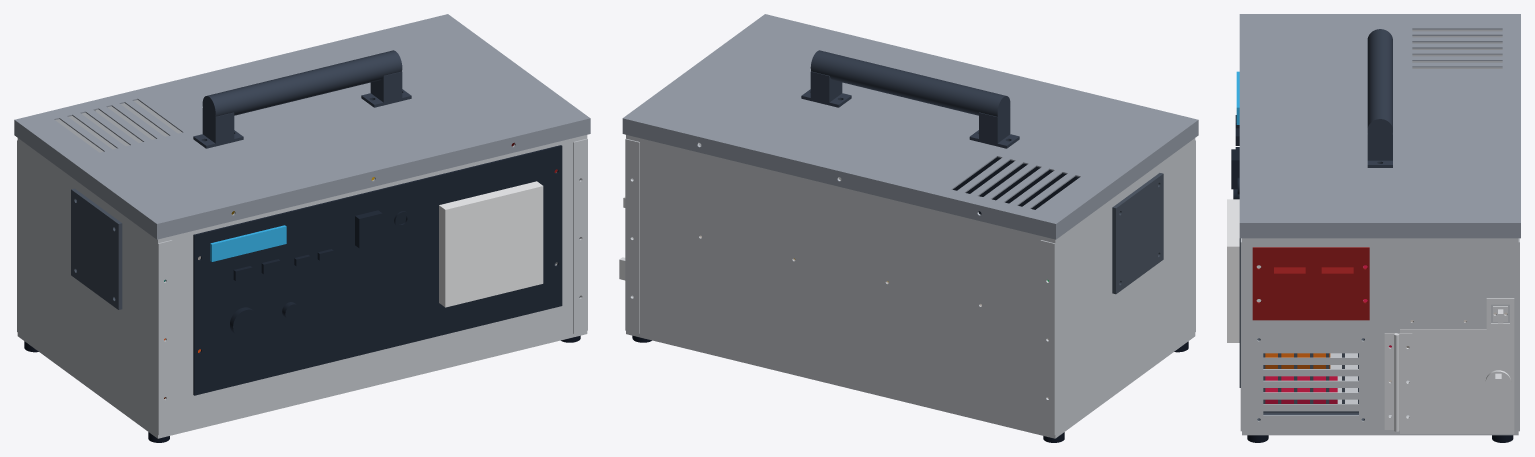
3 views of the same model, side by side, from view 1: azimuth 30°, elevation 25°; view 2: azimuth 150°, elevation 25°; view 3: azimuth 270°, elevation 25° (orthographic).
Parts seen in each view (by area): view 1: Lid with exhaust slots, Enclosure body, Output panel (USB-C PD, USB-A, 12 V), AC outlet with RCD, Carry handle and doubler, Exhaust fan, grille and filter, State-of-charge display; view 2: Enclosure body, Lid with exhaust slots, Carry handle and doubler, Exhaust fan, grille and filter, Output panel (USB-C PD, USB-A, 12 V); view 3: Lid with exhaust slots, Enclosure body, Pack bay door, hinge and latch, Input panel (DC in, grid charger in), Carry handle and doubler, AC outlet with RCD, Exhaust fan, grille and filter, Protection plate and fuse block, Output panel (USB-C PD, USB-A, 12 V), DC-DC converter, 48 V to 12 V, Rubber feet.
Part boxes in pixels (x1,y1,x2,y2): Lid with exhaust slots: [14, 14, 590, 239]; Enclosure body: [17, 100, 587, 438]; Output panel (USB-C PD, USB-A, 12 V): [193, 145, 562, 395]; AC outlet with RCD: [439, 181, 543, 307]; Carry handle and doubler: [193, 50, 411, 148]; Exhaust fan, grille and filter: [71, 188, 579, 309]; State-of-charge display: [210, 225, 286, 261]; Enclosure body: [625, 135, 1195, 438]; Lid with exhaust slots: [622, 14, 1198, 239]; Carry handle and doubler: [801, 50, 1019, 148]; Exhaust fan, grille and filter: [1112, 173, 1163, 294]; Output panel (USB-C PD, USB-A, 12 V): [953, 157, 1079, 214]; Lid with exhaust slots: [1239, 14, 1520, 238]; Enclosure body: [1240, 29, 1519, 435]; Pack bay door, hinge and latch: [1384, 298, 1514, 433]; Input panel (DC in, grid charger in): [1252, 247, 1369, 320]; Carry handle and doubler: [1367, 29, 1392, 167]; AC outlet with RCD: [1227, 199, 1261, 342]; Exhaust fan, grille and filter: [1257, 338, 1364, 420]; Protection plate and fuse block: [1265, 265, 1391, 403]; Output panel (USB-C PD, USB-A, 12 V): [1231, 115, 1240, 387]; DC-DC converter, 48 V to 12 V: [1265, 353, 1330, 368]; Rubber feet: [1247, 435, 1513, 442].
Bounding box in the file's own units: 0.4802 × 0.2752 × 0.2762.
